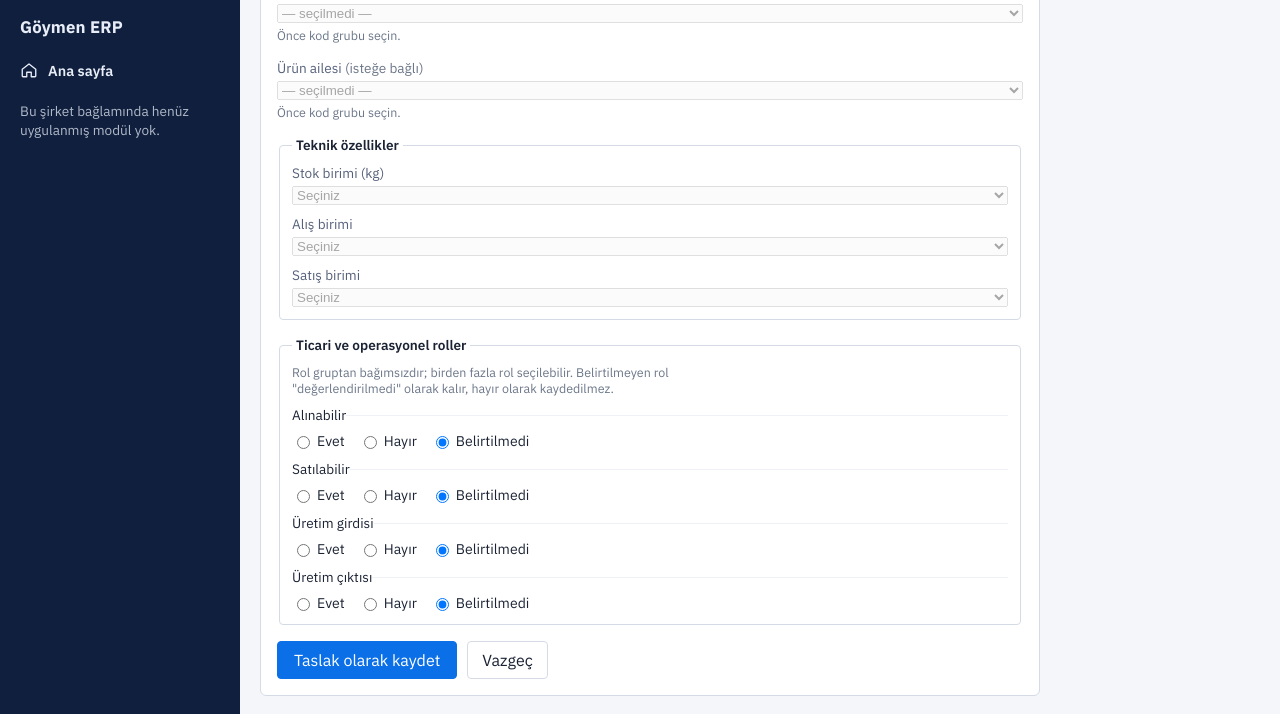
validation › sends nothing and mints no key when the form fails client-side
(page scrolled)
Step 1. Click the button "Taslak olarak kaydet" → (367, 660), box [277,641,457,679]
(page scrolled)
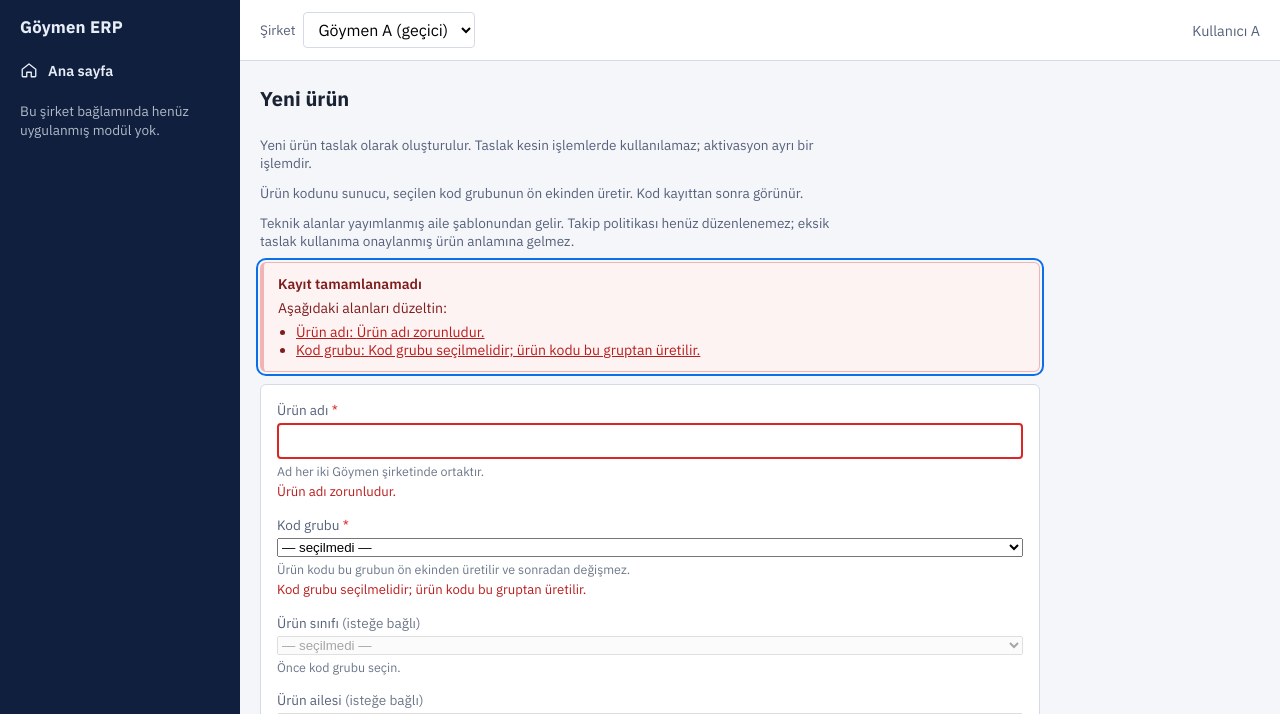
Result: the message with test id "product-create-error-summary" is shown at [260,262,1040,372]
